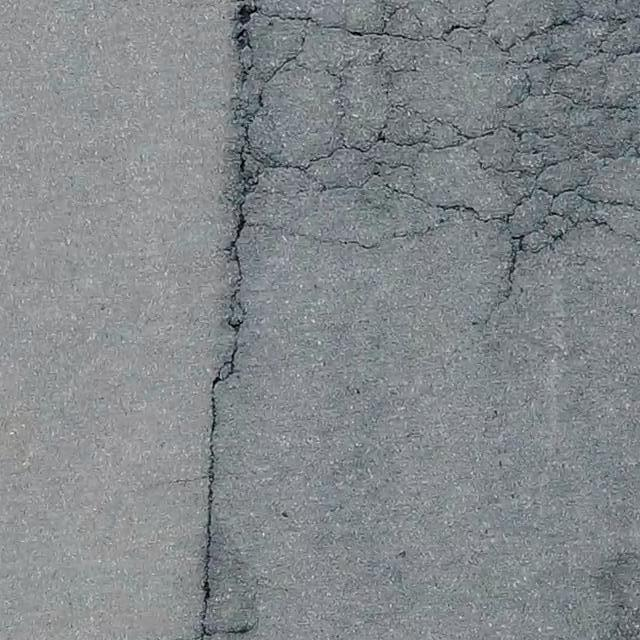GRIETA: (198, 262, 247, 639), (483, 250, 517, 323)
PIEL DE COCODRILO: (219, 0, 639, 261)
